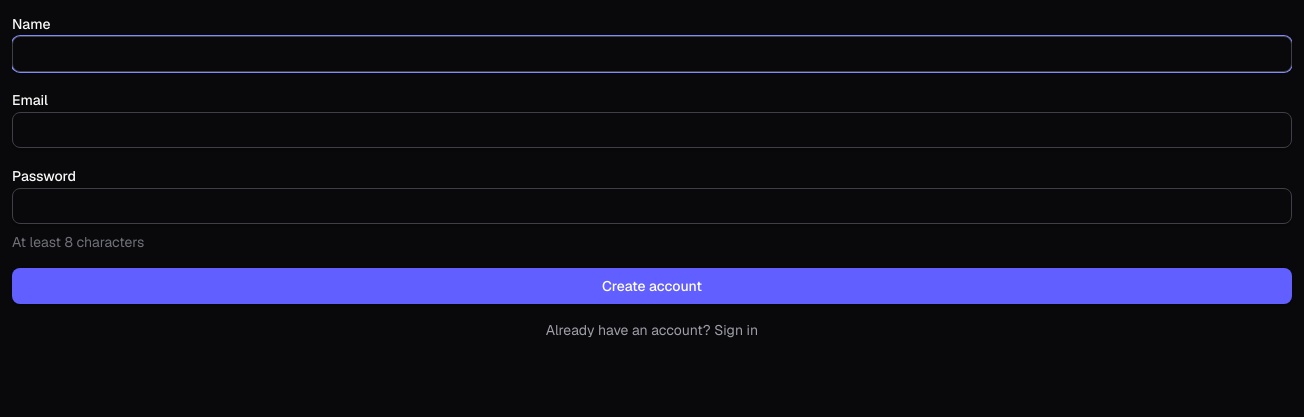
Scenario: any other sign-up failure shows the generic alert
Type "Ada Lovelace" into the field labelled "Name".
click(652, 54); type("Ada Lovelace")  # box [12,36,1292,72]
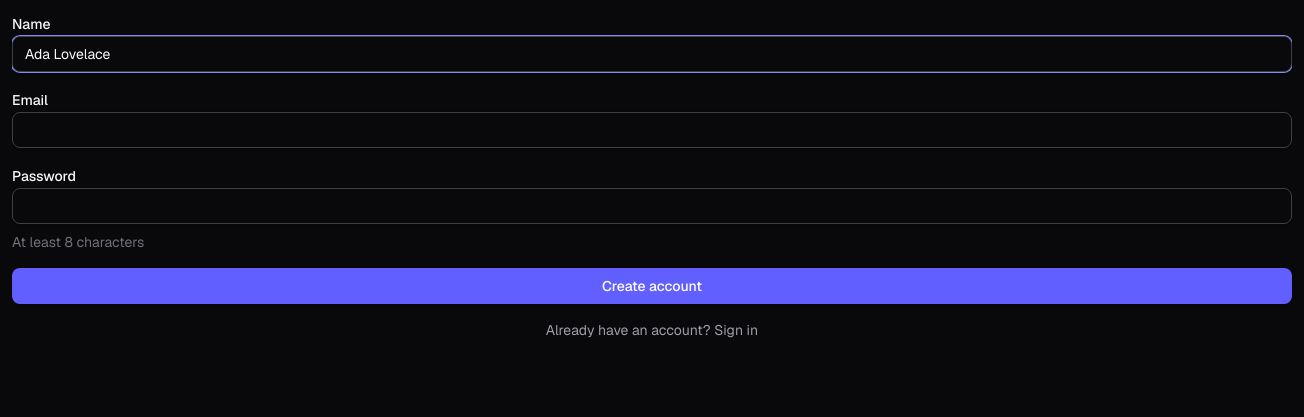
Type "ada@example.com" into the field labelled "Email".
click(652, 130); type("ada@example.com")  # box [12,112,1292,148]
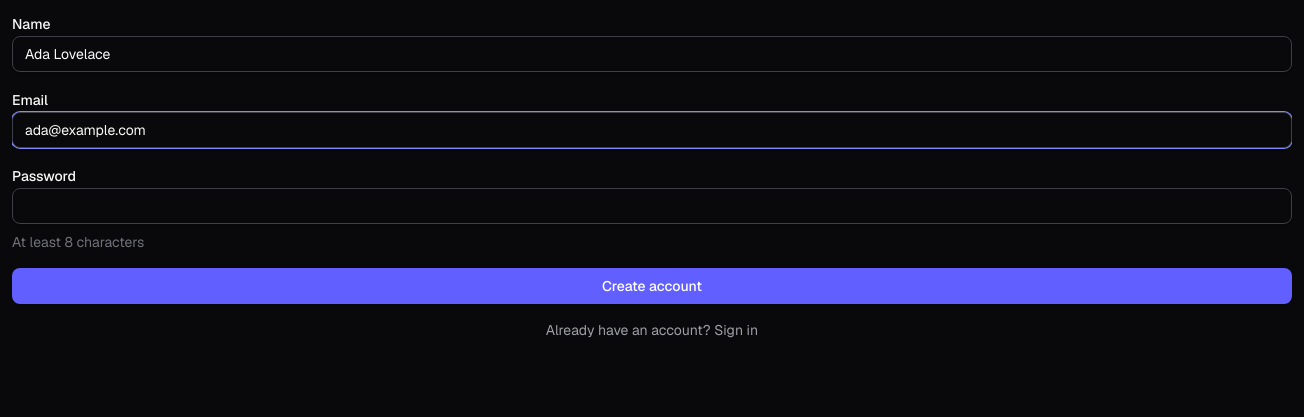
Type "password1" into the password field labelled "Password".
click(652, 206); type("password1")  # box [12,188,1292,224]
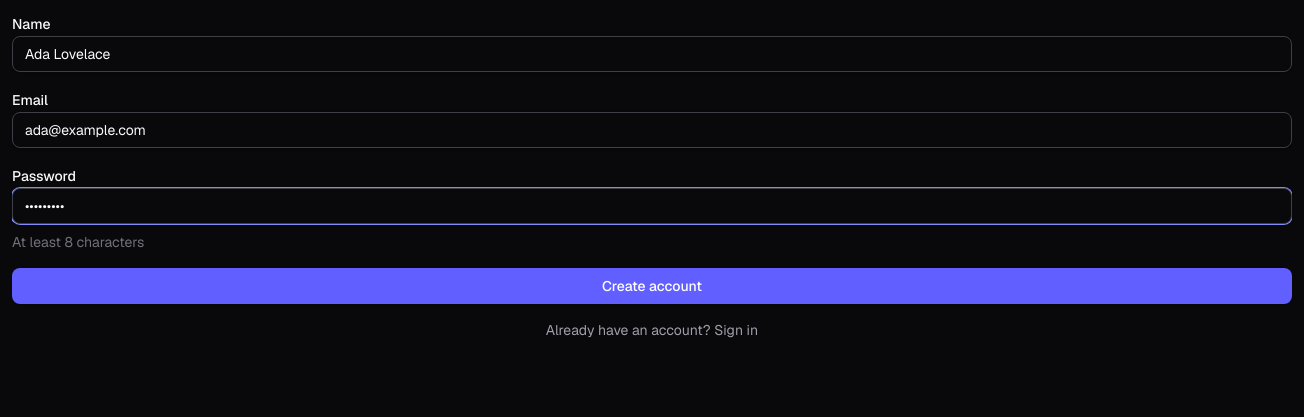
Click the button "Create account".
click(652, 286)  # box [12,268,1292,304]
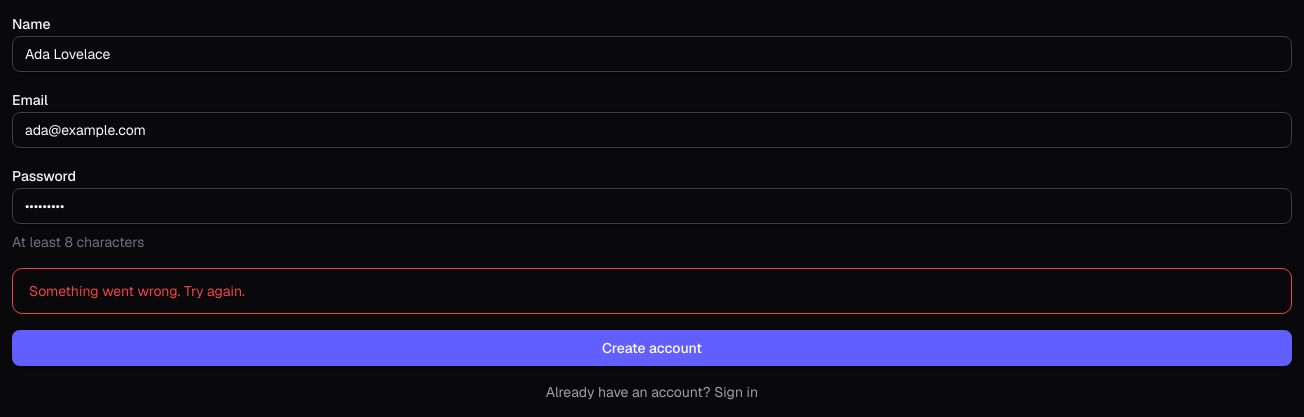
expect the message reads "Something went wrong. Try again.": met, box [29,282,245,300]
